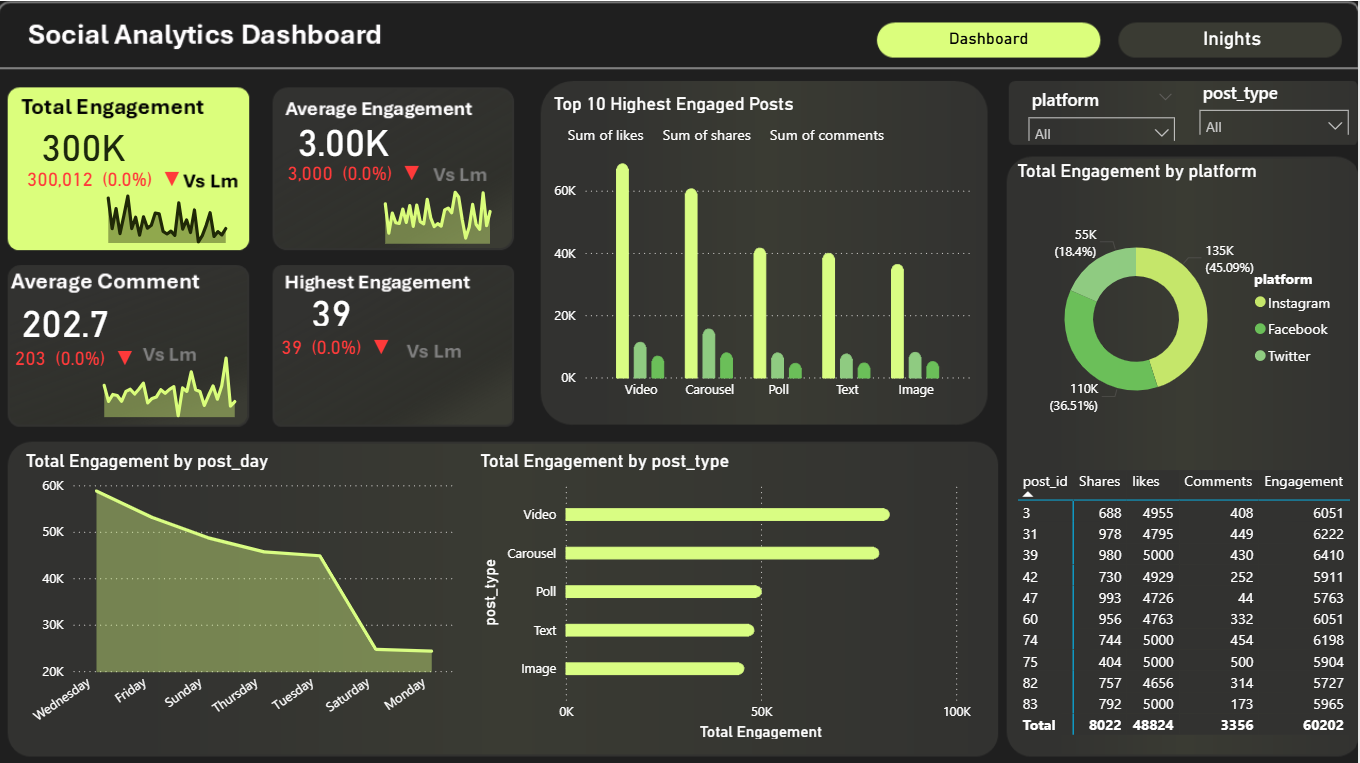

What the dashboard file says about the page in this screenshot:
{"tool":"powerbi","page":{"name":"Dashboard","canvas":[1280,720],"ordinal":0},"visuals":[{"type":"card","fields":{"Values":["social_media_engagement1.Average Engagement 1"]},"box":[250.8,108.6,147,43.1],"z":0},{"type":"areaChart","fields":{"Category":["social_media_engagement1.post_time.Variation.Date Hierarchy.Day"],"Y":["social_media_engagement1.Average Engagement 1"]},"box":[345.1,163,161.4,70.3],"z":1000},{"type":"card","fields":{"Values":["social_media_engagement1.Average Comments per Post"]},"box":[7.9,278.8,108.7,42.5],"z":2000},{"type":"stackedAreaChart","fields":{"Y":["social_media_engagement1.Total Engagement"],"Category":["social_media_engagement1.post_day"]},"box":[20.8,421.8,412.2,278],"z":4000},{"type":"clusteredBarChart","fields":{"Category":["social_media_engagement1.post_type"],"Y":["social_media_engagement1.Total Engagement"]},"box":[448.9,422.1,470.9,277.2],"z":5000},{"type":"clusteredColumnChart","title":"Top 10 Highest Engaged Posts","fields":{"Category":["social_media_engagement1.post_type"],"Y":["Sum(social_media_engagement1.likes)","Sum(social_media_engagement1.shares)","Sum(social_media_engagement1.comments)"]},"box":[517.5,86,401.8,297.5],"z":6000},{"type":"pivotTable","fields":{"Rows":["social_media_engagement1.post_id"],"Values":["Sum(social_media_engagement1.shares)","Sum(social_media_engagement1.likes)","Sum(social_media_engagement1.comments)","social_media_engagement1.Total Engagement"]},"box":[953.8,436.2,325.9,263.6],"z":7000},{"type":"card","fields":{"Values":["social_media_engagement1.Highest Engaged Post"]},"box":[259.9,270.9,107.1,39.4],"z":8000},{"type":"card","fields":{"Values":["social_media_engagement1.Total Engagement"]},"box":[17.6,113.4,126.2,43.1],"z":9000},{"type":"card","fields":{"Values":["DateTable.Total Engagement Display"]},"box":[17.6,150.2,166.2,33.6],"z":10000},{"type":"stackedAreaChart","fields":{"Y":["social_media_engagement1.Total Engagement"],"Category":["social_media_engagement1.post_time.Variation.Date Hierarchy.Day"]},"box":[84.7,156.6,177.3,76.7],"z":11000},{"type":"card","fields":{"Values":["DateTable.Average Engagement Display"]},"box":[250.4,146.5,168.5,31.5],"z":12000},{"type":"card","fields":{"Values":["DateTable.Comment Display"]},"box":[7.9,321.3,127.6,25.2],"z":13000},{"type":"areaChart","fields":{"Y":["social_media_engagement1.Average Comments per Post"],"Category":["social_media_engagement1.post_time.Variation.Date Hierarchy.Day"]},"box":[80.3,310.3,193.7,86.6],"z":14000},{"type":"card","fields":{"Values":["DateTable.Highest Display"]},"box":[250.4,310.3,133.9,31.5],"z":15000},{"type":"actionButton","box":[1054.5,20.8,210.9,30.4],"z":17000},{"type":"actionButton","box":[829.2,16,204.5,39.9],"z":18000},{"type":"slicer","fields":{"Values":["social_media_engagement1.platform"]},"box":[959.2,75.6,157.5,55.1],"z":18001},{"type":"slicer","fields":{"Values":["social_media_engagement1.post_type"]},"box":[1120,68.9,160,56.7],"z":18002},{"type":"donutChart","fields":{"Category":["social_media_engagement1.platform"],"Y":["social_media_engagement1.Total Engagement"]},"box":[952.9,149.6,313.4,278.8],"z":18003}]}

Visuals, with their boxes in screenshot pixels (x1, y1, x2, y2), scaled from the page's 1280x720 canvas onto the 1360x763 screenshot:
card - social_media_engagement1.Average Engagement 1: [x1=266, y1=115, x2=423, y2=161]
areaChart - social_media_engagement1.post_time.Variation.Date Hierarchy.Day x social_media_engagement1.Average Engagement 1: [x1=367, y1=173, x2=538, y2=247]
card - social_media_engagement1.Average Comments per Post: [x1=8, y1=295, x2=124, y2=340]
stackedAreaChart - social_media_engagement1.Total Engagement x social_media_engagement1.post_day: [x1=22, y1=447, x2=460, y2=742]
clusteredBarChart - social_media_engagement1.post_type x social_media_engagement1.Total Engagement: [x1=477, y1=447, x2=977, y2=741]
"Top 10 Highest Engaged Posts" clusteredColumnChart: [x1=550, y1=91, x2=977, y2=406]
pivotTable - social_media_engagement1.post_id x Sum(social_media_engagement1.shares): [x1=1013, y1=462, x2=1359, y2=742]
card - social_media_engagement1.Highest Engaged Post: [x1=276, y1=287, x2=390, y2=329]
card - social_media_engagement1.Total Engagement: [x1=19, y1=120, x2=153, y2=166]
card - DateTable.Total Engagement Display: [x1=19, y1=159, x2=195, y2=195]
stackedAreaChart - social_media_engagement1.Total Engagement x social_media_engagement1.post_time.Variation.Date Hierarchy.Day: [x1=90, y1=166, x2=278, y2=247]
card - DateTable.Average Engagement Display: [x1=266, y1=155, x2=445, y2=189]
card - DateTable.Comment Display: [x1=8, y1=340, x2=144, y2=367]
areaChart - social_media_engagement1.Average Comments per Post x social_media_engagement1.post_time.Variation.Date Hierarchy.Day: [x1=85, y1=329, x2=291, y2=421]
card - DateTable.Highest Display: [x1=266, y1=329, x2=408, y2=362]
actionButton: [x1=1120, y1=22, x2=1344, y2=54]
actionButton: [x1=881, y1=17, x2=1098, y2=59]
slicer - social_media_engagement1.platform: [x1=1019, y1=80, x2=1186, y2=139]
slicer - social_media_engagement1.post_type: [x1=1190, y1=73, x2=1359, y2=133]
donutChart - social_media_engagement1.platform x social_media_engagement1.Total Engagement: [x1=1012, y1=159, x2=1345, y2=454]
